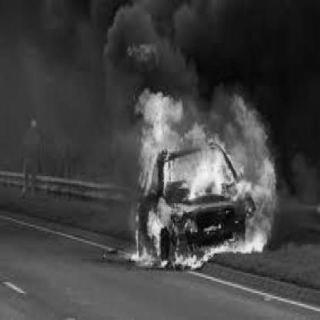Smoke: (38, 4, 315, 84)
